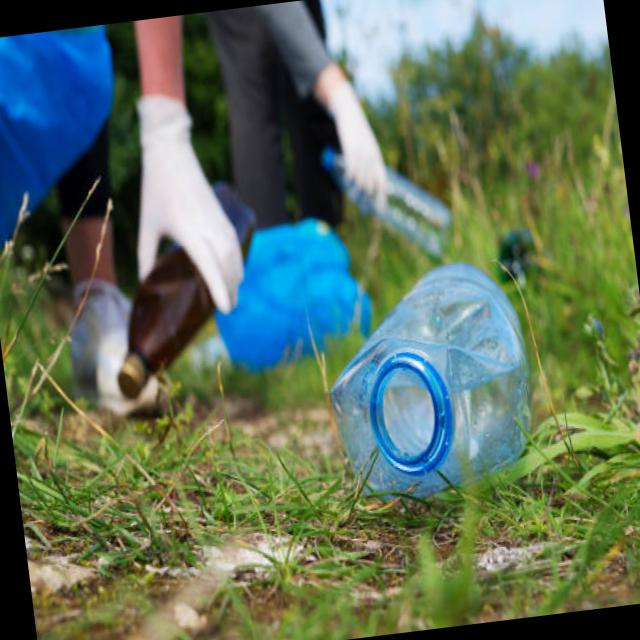plastic: (333, 263, 536, 504)
